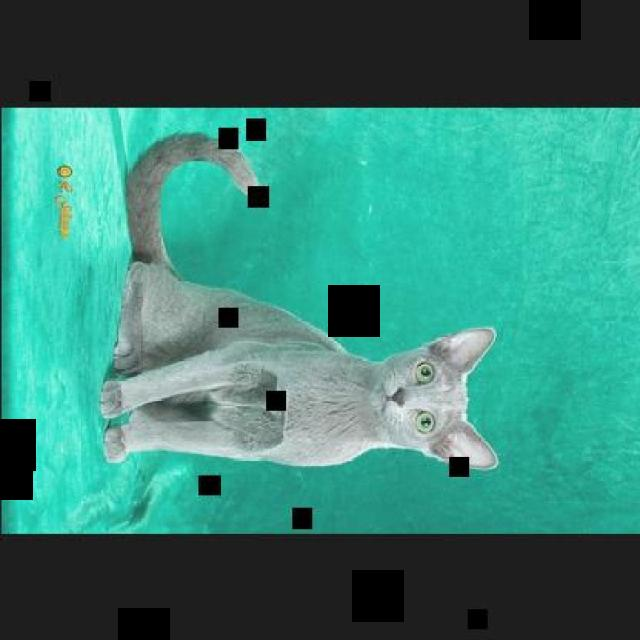unauthorized: (97, 129, 498, 471)
